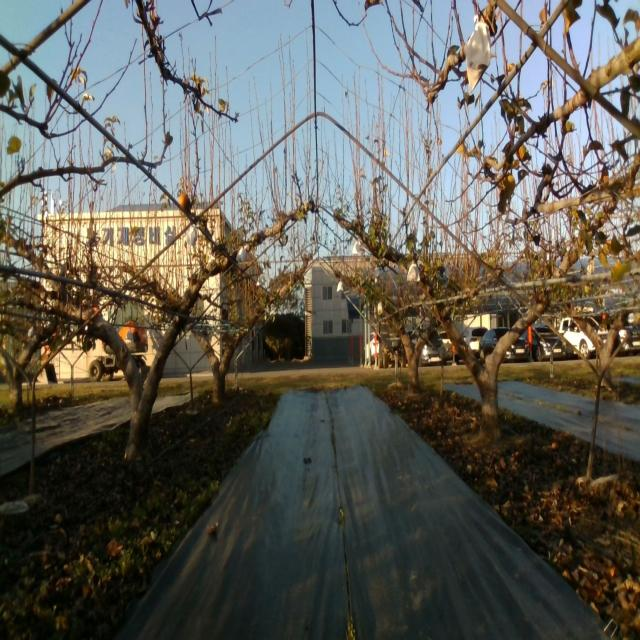pearbags: (466, 15, 491, 94), (186, 221, 200, 246), (406, 259, 421, 282), (235, 244, 248, 264)
